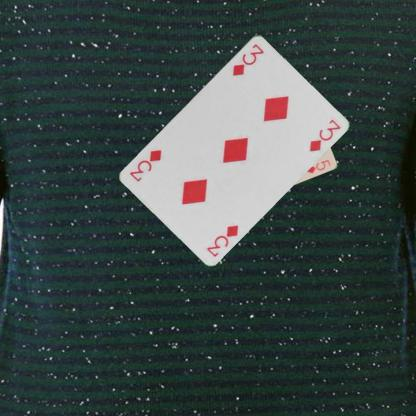3d: (230, 40, 266, 77), (204, 222, 240, 258)
